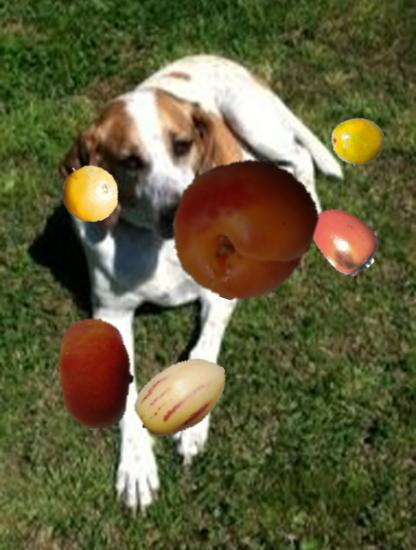Apricot: (171, 156, 316, 301)
Grapefruit: (60, 163, 120, 223)
Kaki: (308, 203, 382, 277)
Maracuja: (332, 115, 386, 169)
Nectarine: (39, 318, 151, 430)
Pepino: (132, 346, 233, 447)
